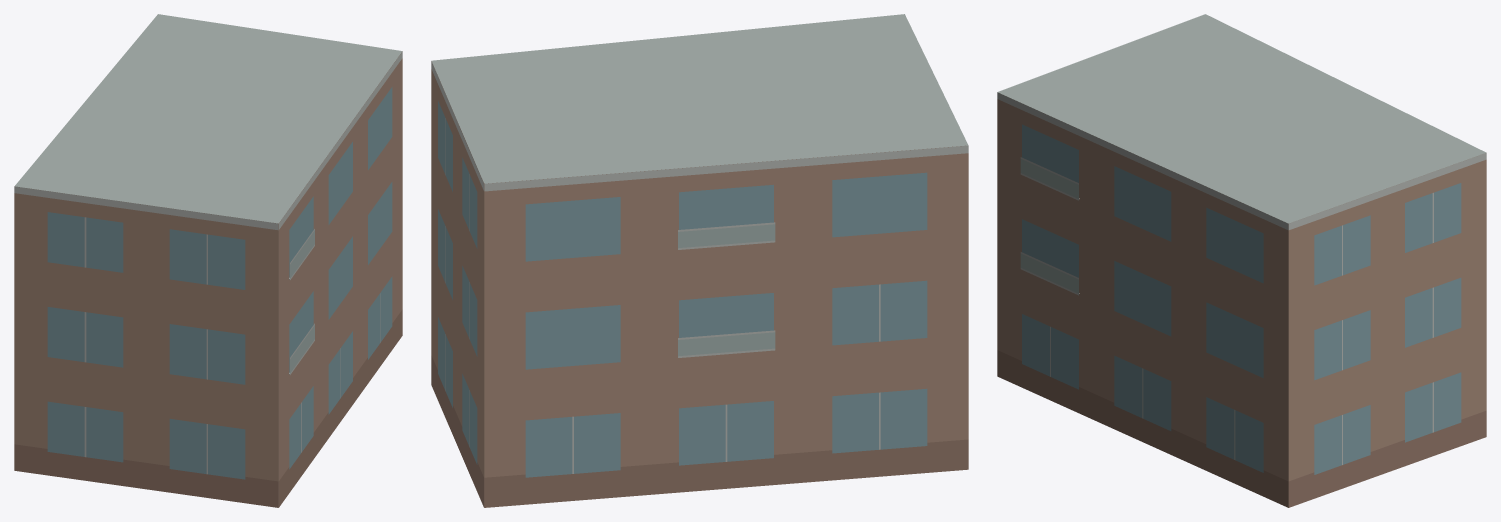
Rendered from survey-upis-32830191.glb.
3 renders of one model, left to right at view 1: azimuth 30°, elevation 25°; view 2: azimuth 150°, elevation 25°; view 3: azimuth 270°, elevation 25°, orthographic. The views are drawn at different scales.
Parts seen in each view (by area): view 1: survey-upis-32830191.tmp; view 2: survey-upis-32830191.tmp; view 3: survey-upis-32830191.tmp.
Boxes of the visible parts, x1,y1,x2,y2 form: survey-upis-32830191.tmp: (14, 14, 402, 507); survey-upis-32830191.tmp: (431, 14, 968, 507); survey-upis-32830191.tmp: (997, 14, 1486, 507).
Bounding box in the file's own units: 16.14 × 10.2 × 15.92.
